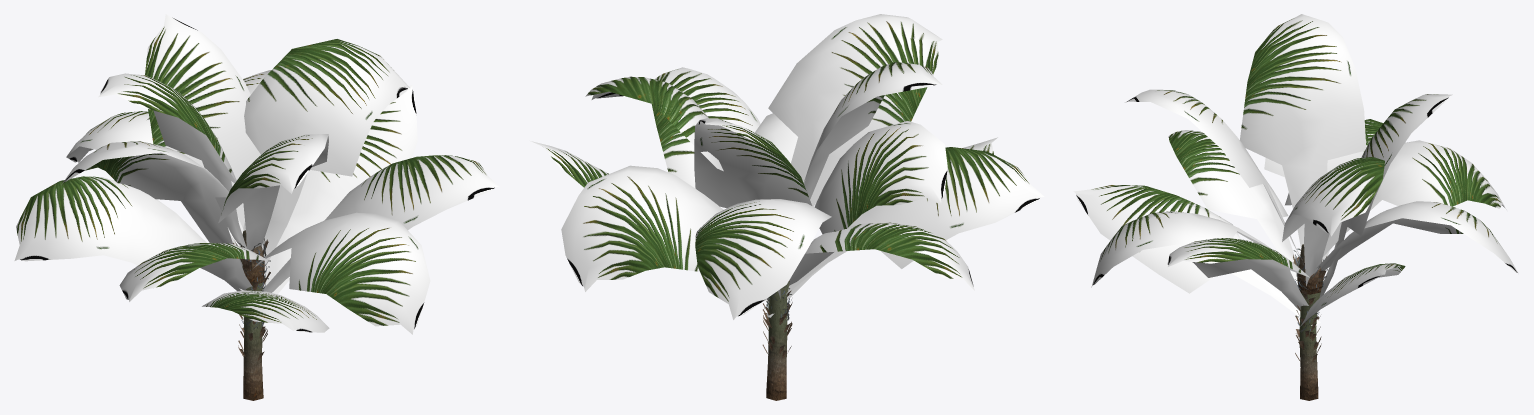
The model's file is Ceriman_bush_2.fbx.
3 views of the same model, side by side, from view 1: azimuth 30°, elevation 25°; view 2: azimuth 150°, elevation 25°; view 3: azimuth 270°, elevation 25° (orthographic). The views are drawn at different scales.
Parts seen in each view (by area): view 1: LOD0; view 2: LOD0; view 3: LOD0.
Boxes of the visible parts, bbox=[...] form: LOD0: bbox=[14, 14, 499, 400]; LOD0: bbox=[530, 14, 1044, 400]; LOD0: bbox=[1073, 14, 1518, 400].
Size of what is drawn, in the model's own units: 15.14 by 12.09 by 15.31.
